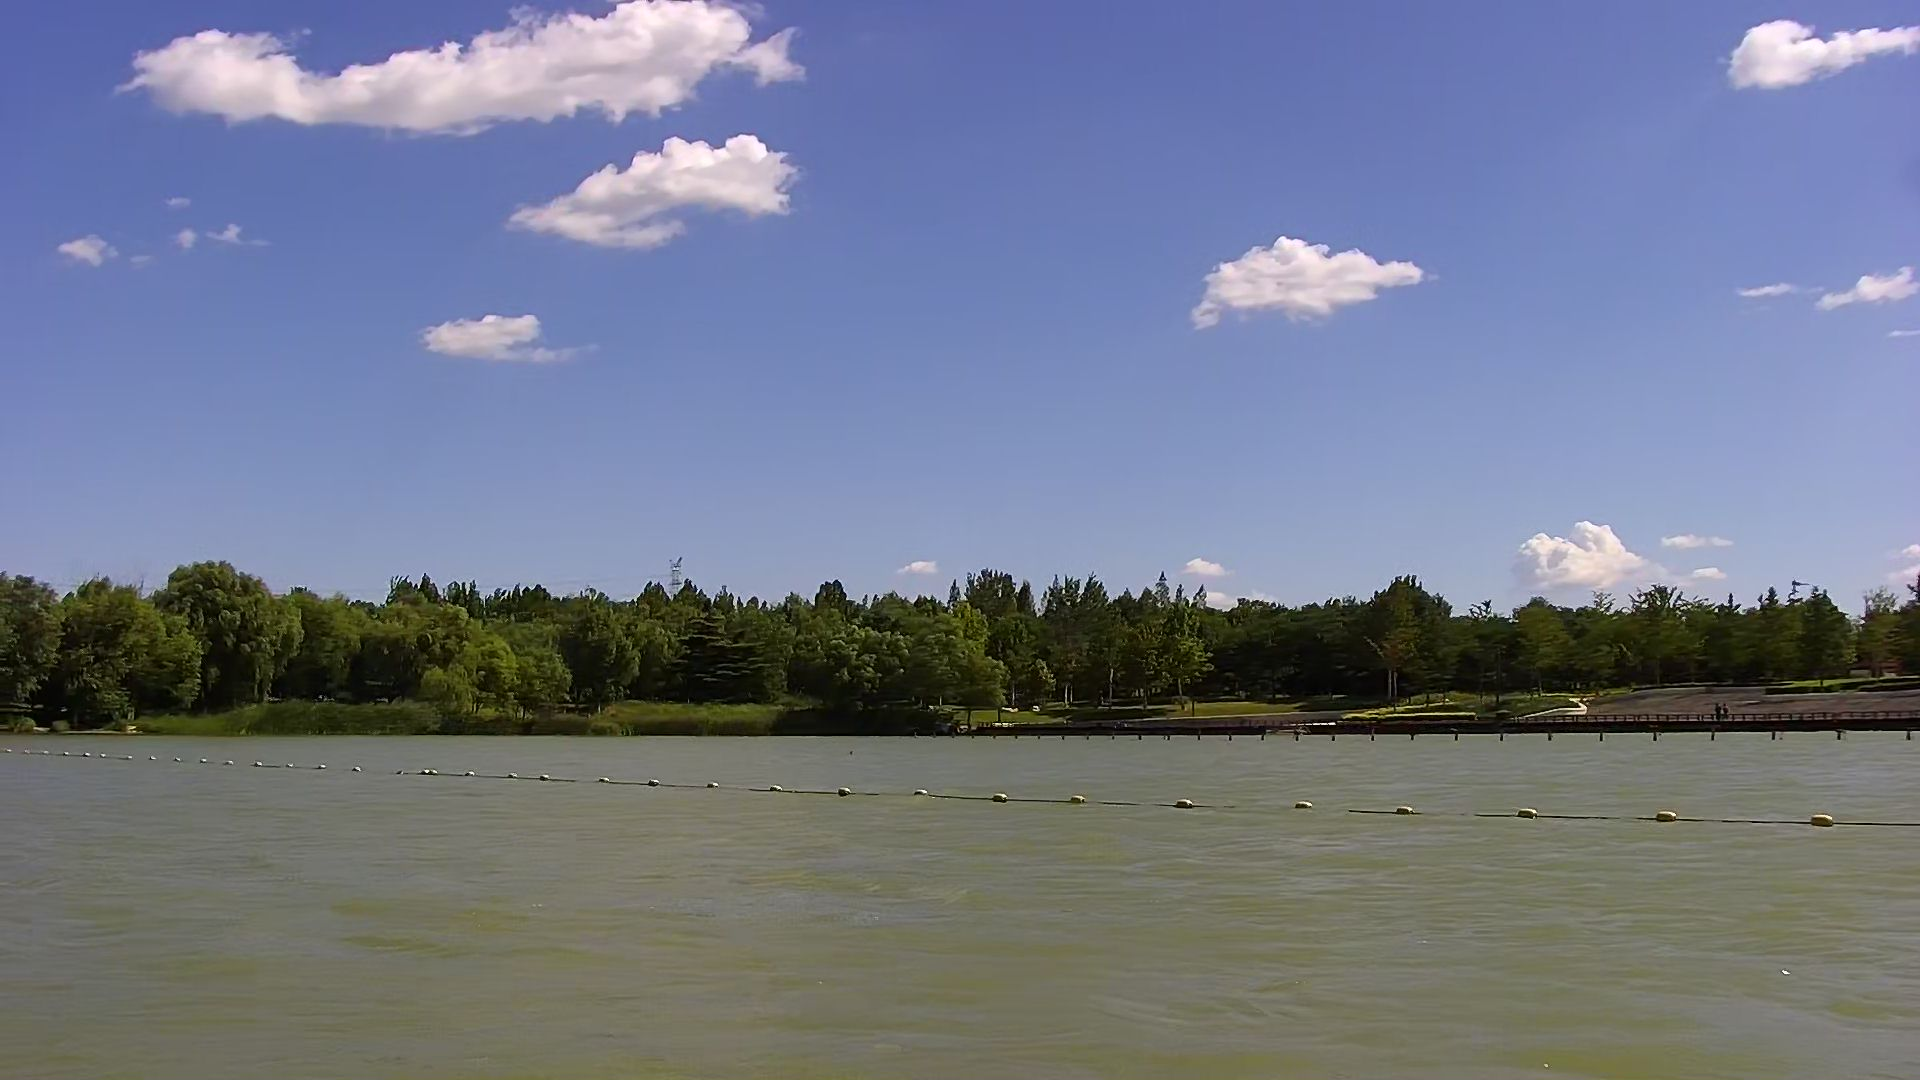ball: (1387, 793, 1443, 837), (1799, 800, 1849, 847), (1639, 798, 1685, 836), (1509, 793, 1553, 828), (1294, 786, 1325, 832), (978, 781, 1025, 812), (1168, 786, 1209, 822)
